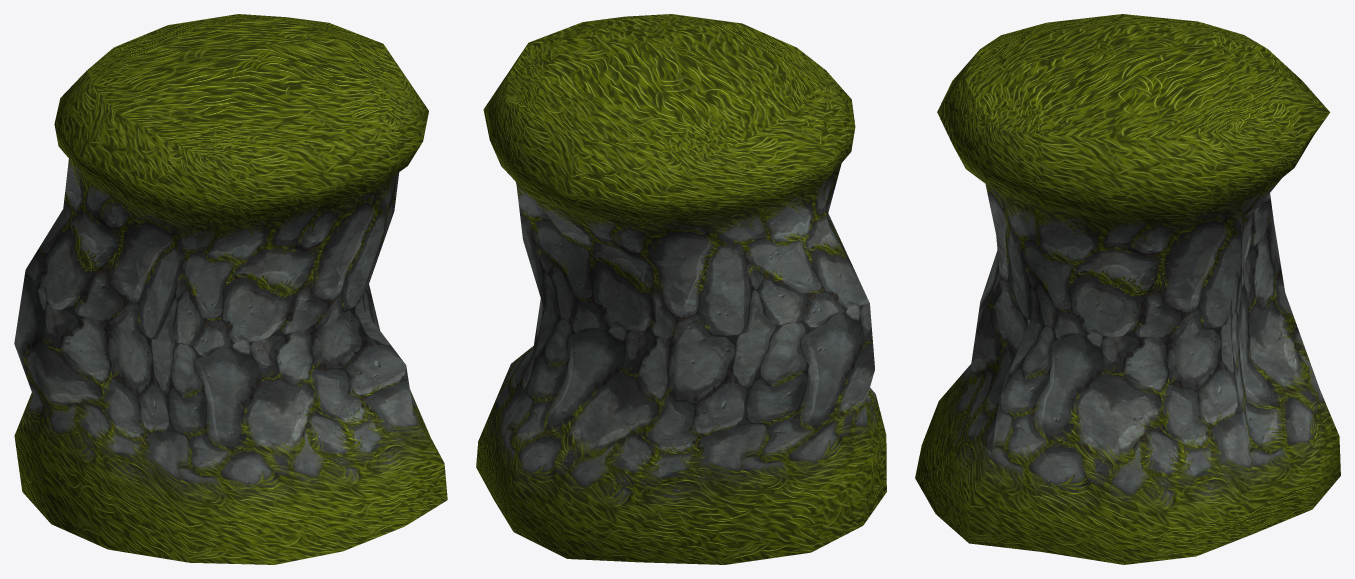
The model's file is PlatformGrass1.obj.
3 renders of one model, left to right at view 1: azimuth 30°, elevation 25°; view 2: azimuth 150°, elevation 25°; view 3: azimuth 270°, elevation 25°, orthographic. The views are drawn at different scales.
Visible parts, largest first — view 1: Default_Layer; view 2: Default_Layer; view 3: Default_Layer.
Boxes of the visible parts, left/top/right/bottom form: Default_Layer: left=14, top=14, right=447, bottom=564; Default_Layer: left=476, top=14, right=886, bottom=564; Default_Layer: left=915, top=14, right=1340, bottom=564.
Size of the model in its own units: 9.43 by 10.25 by 9.08.
